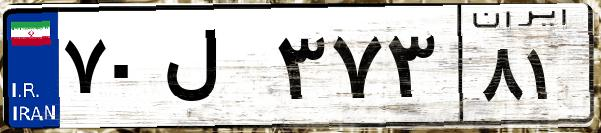0: (110, 28, 158, 98)
1: (525, 38, 570, 115)
3: (270, 28, 330, 110), (385, 28, 445, 110)
7: (330, 28, 385, 110), (57, 26, 110, 100)
8: (475, 38, 525, 113)
ل: (158, 20, 270, 120)
